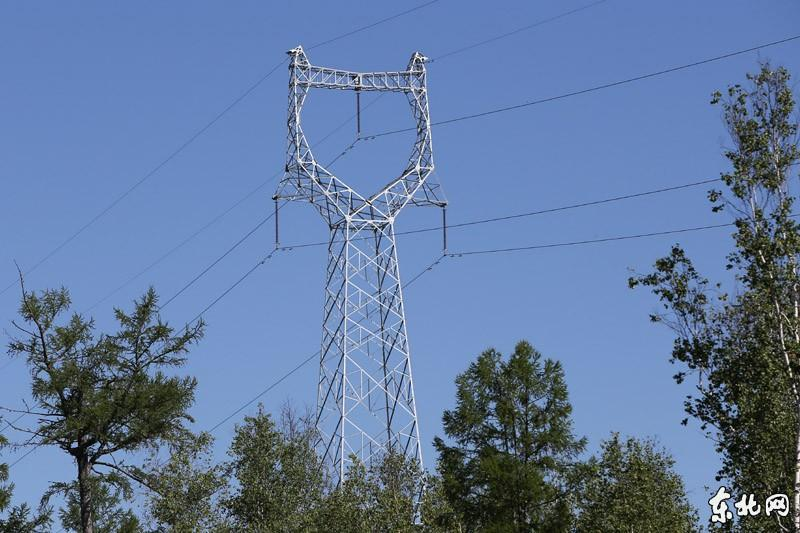power_tower: (279, 31, 455, 495)
